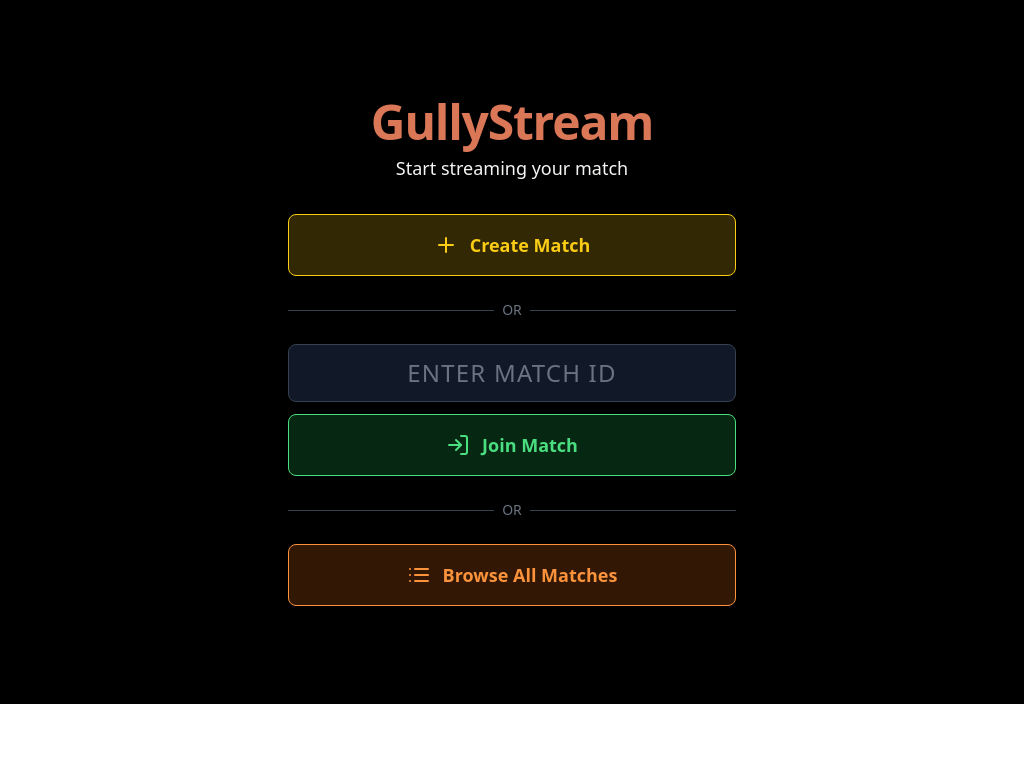
Test: MatchSelector › shows validation error for empty and malformed match ids
Click the button "Join Match" at (512, 445), box x1=288 y1=414 x2=736 y2=476
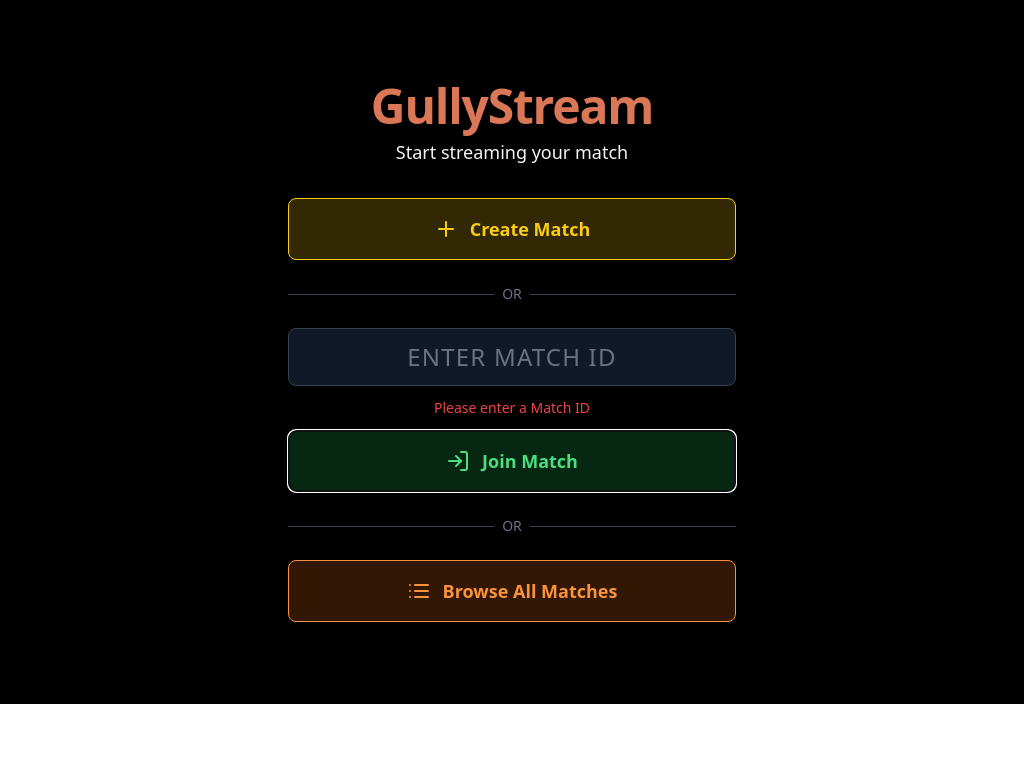
Check: the text "Please enter a Match ID" is shown, box x1=434 y1=398 x2=590 y2=417
Type "abc" into the field with placeholder "Enter Match ID" at (512, 357), box x1=288 y1=328 x2=736 y2=386
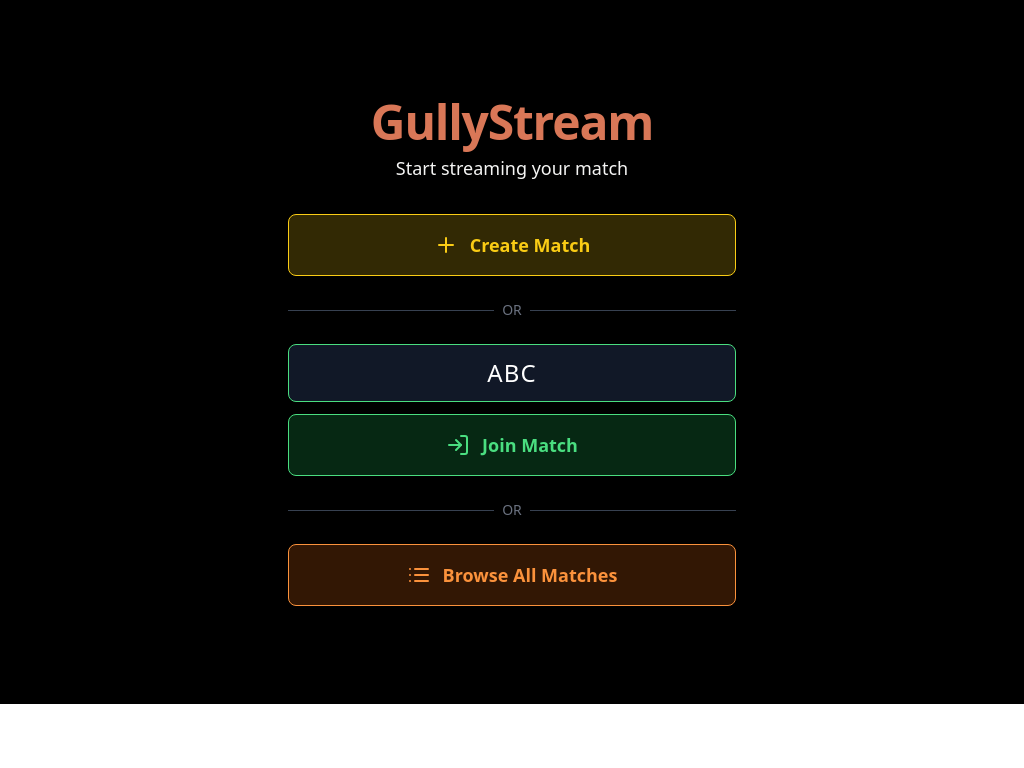
Click the button "Join Match" at (512, 445), box x1=288 y1=414 x2=736 y2=476
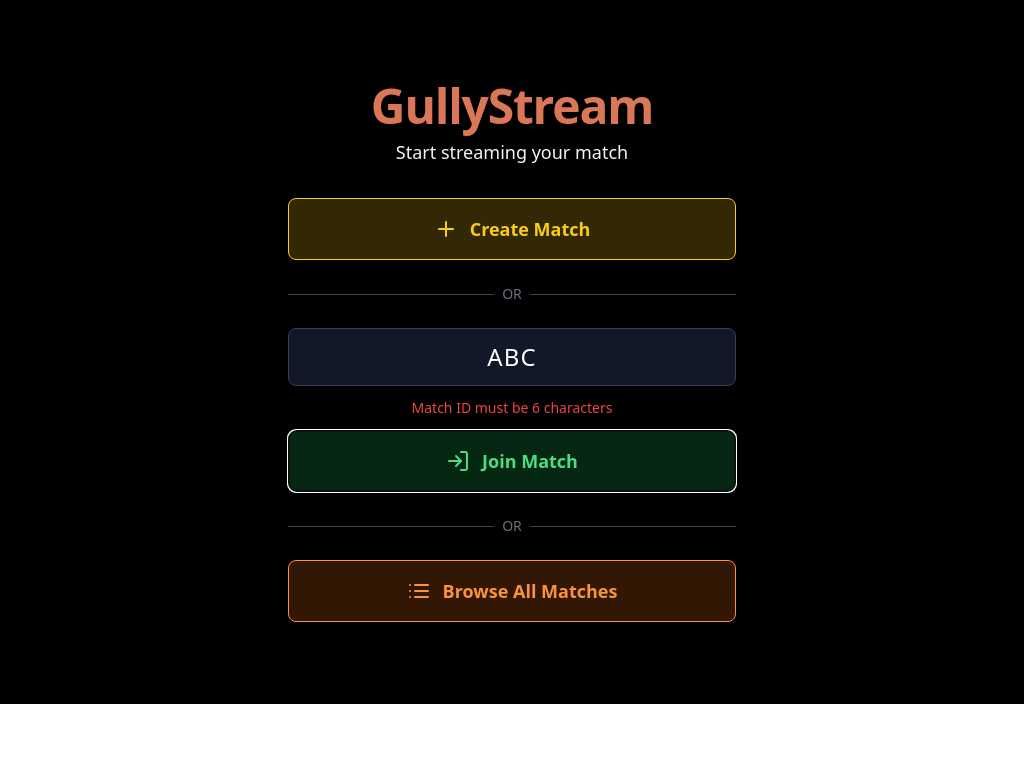
Check: the text "Match ID must be 6 characters" is shown, box x1=412 y1=398 x2=612 y2=417
